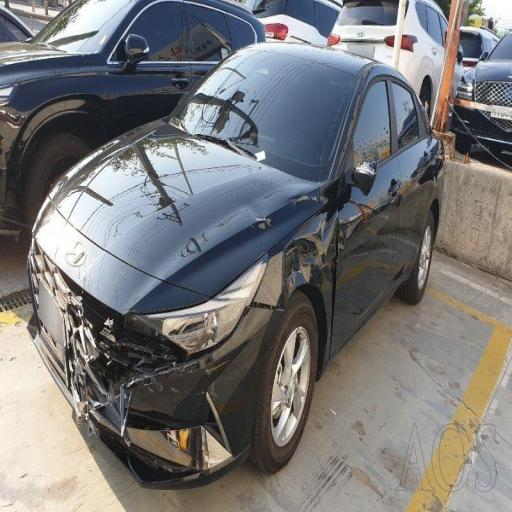broken: (42, 230, 284, 464)
